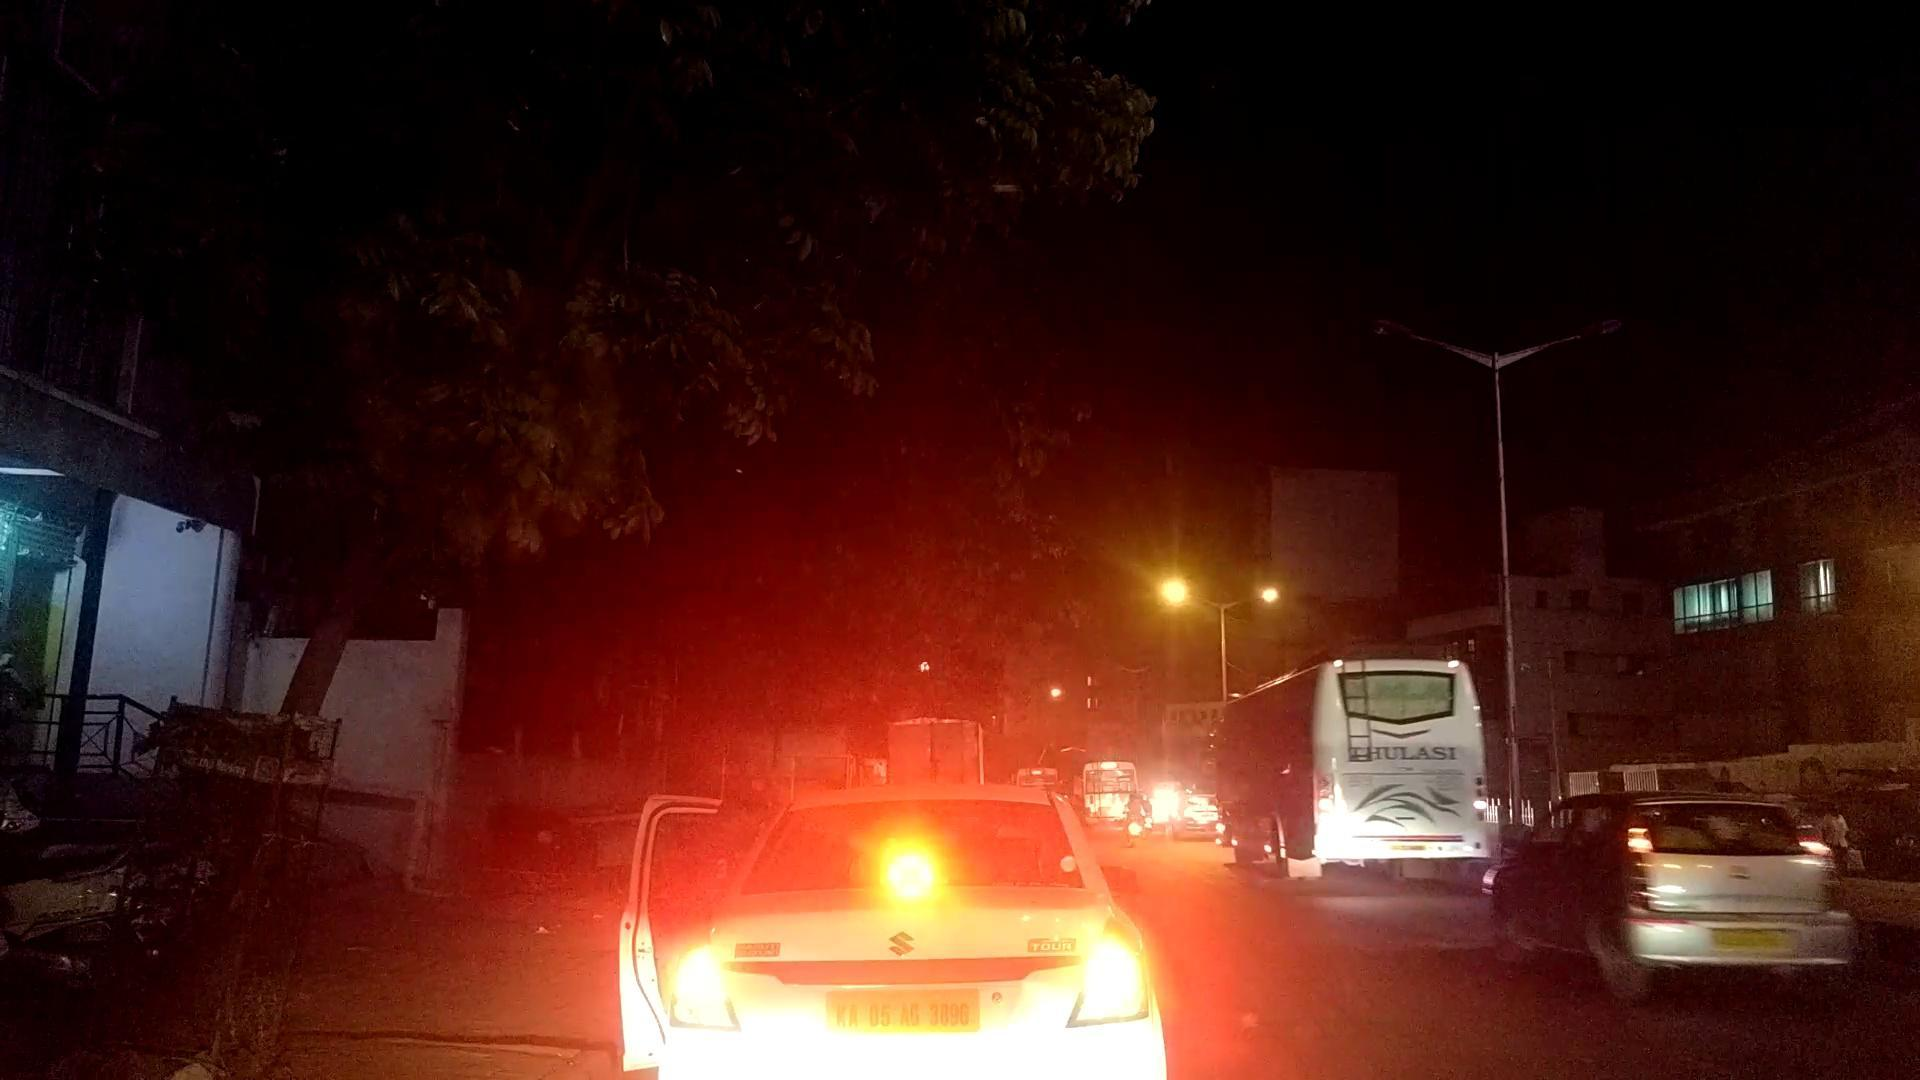on: (1021, 322, 1423, 1059)
